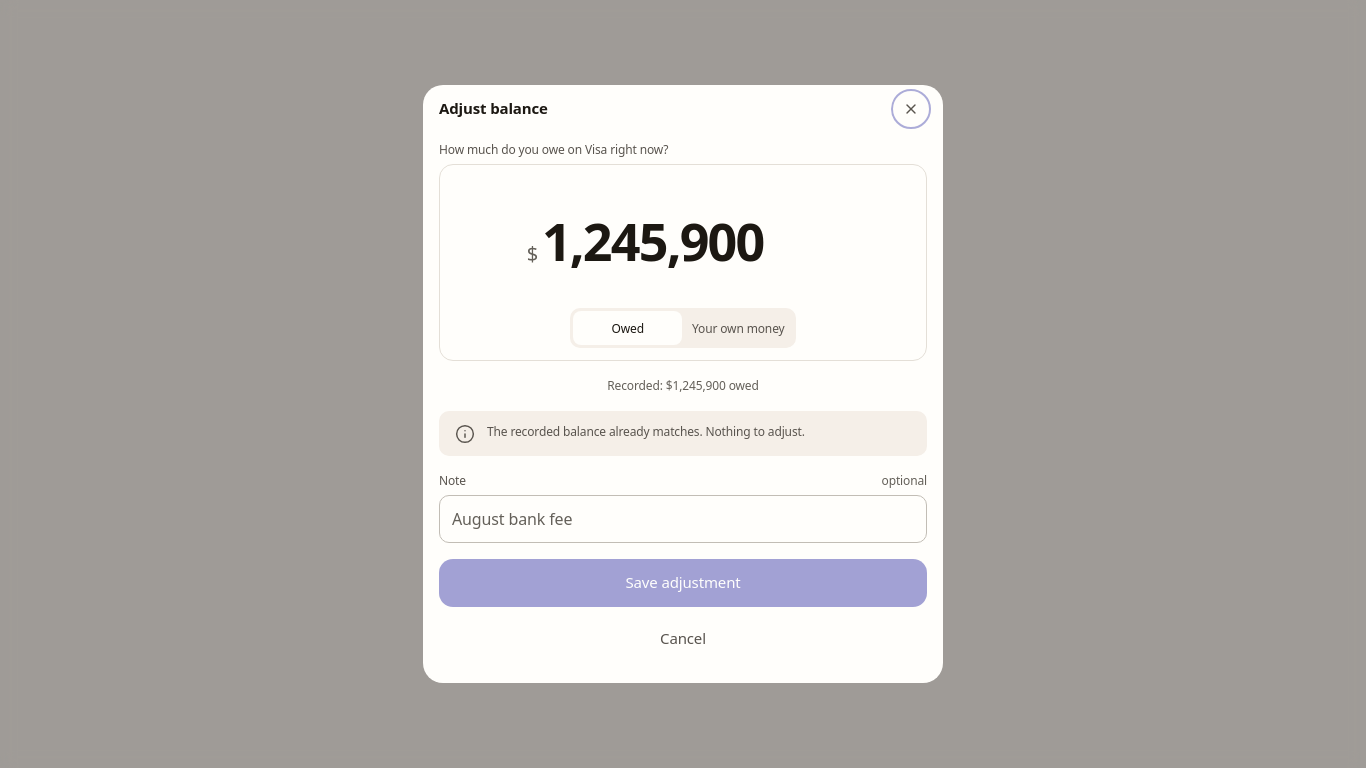
AdjustBalanceSheet › asks a card what it owes, reads the difference as debt, and keeps the form open on a server error
This screenshot has width=1366, height=768.
Expected: the button "Owed" is shown, [574,311,682,345]
Expected: the text "Recorded: $1,245,900 owed" is shown, [607,377,759,394]
Clear the field labelled "How much do you owe on Visa right now?" at [691, 241], box [542,205,839,276]
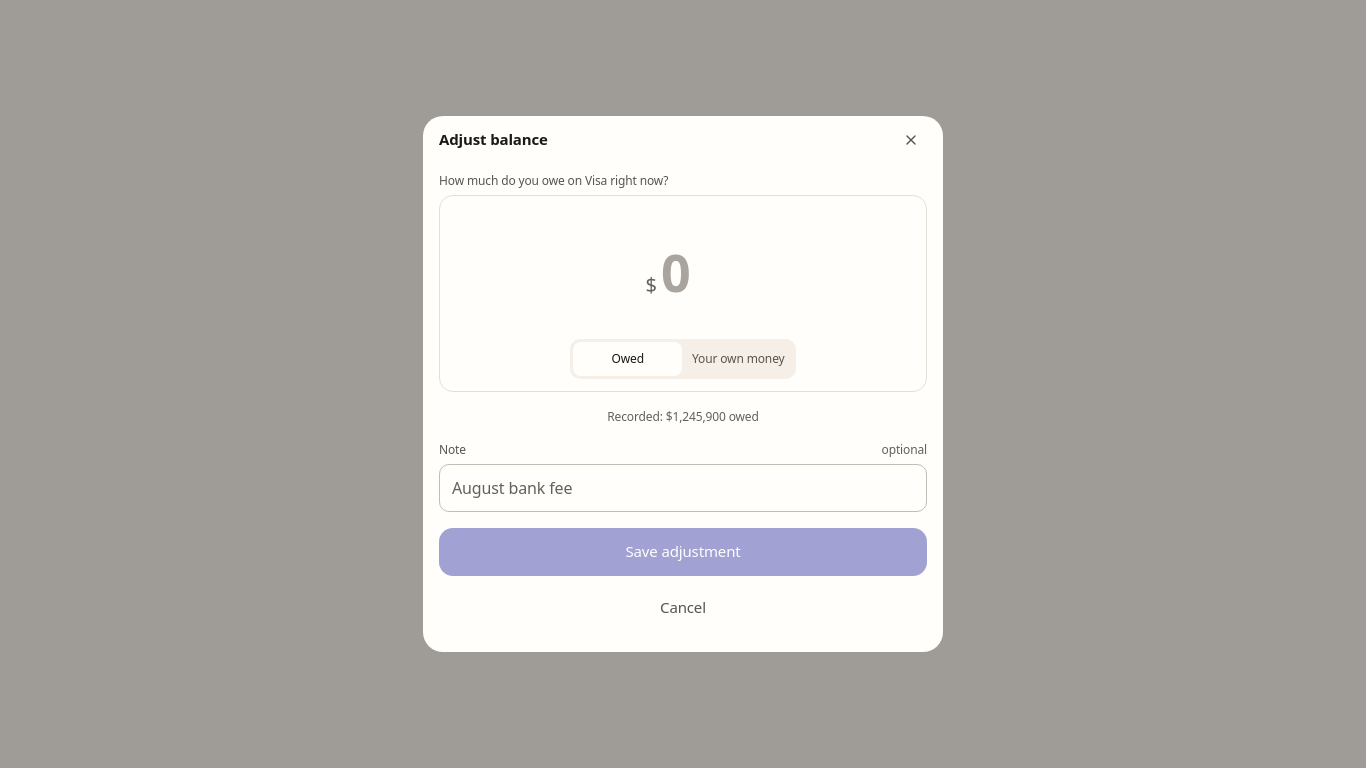
Type "1300000" into the field labelled "How much do you owe on Visa right now?".
click(691, 271); type("1300000")  # box [661,236,720,307]
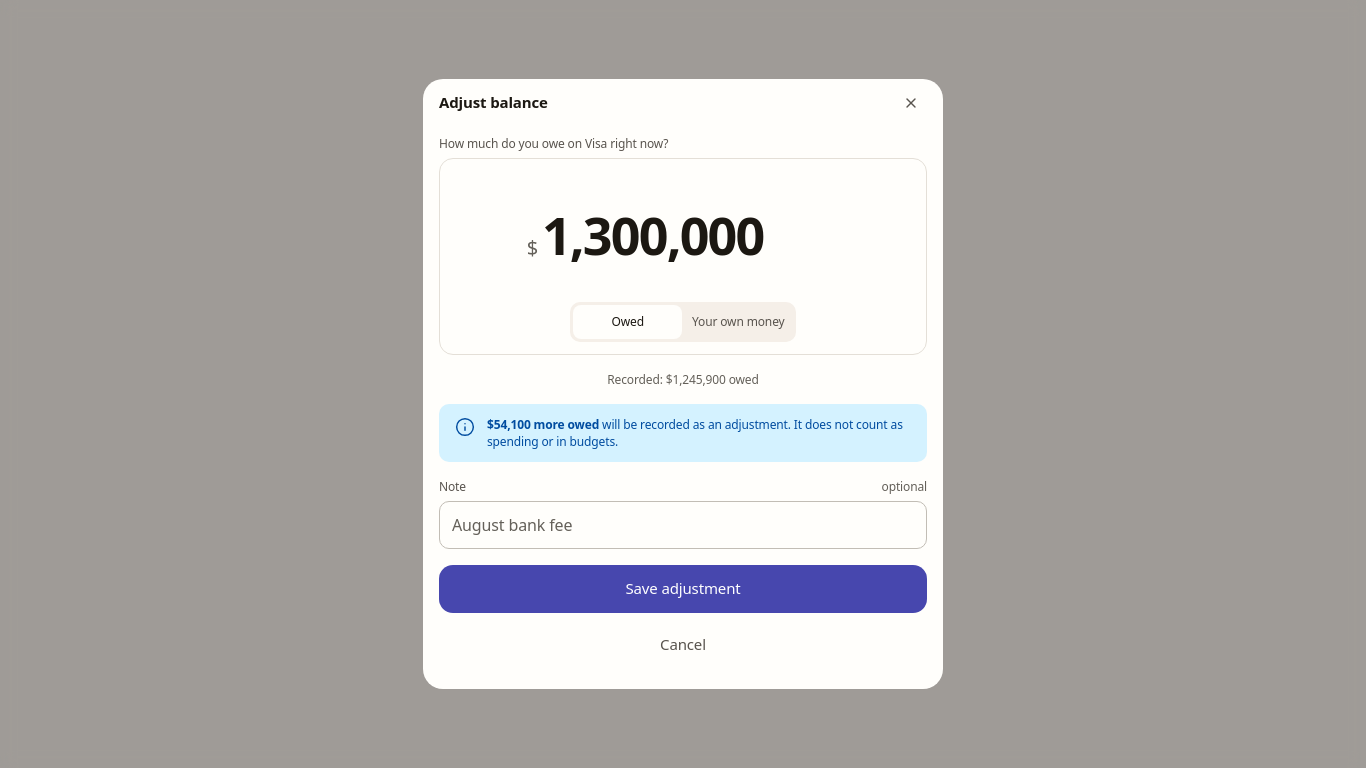
Expected: the text "$54,100 more owed" is shown, [487,416,599,433]
Click the 1st button named "Save adjustment".
click(683, 589)  # box [439,565,927,613]
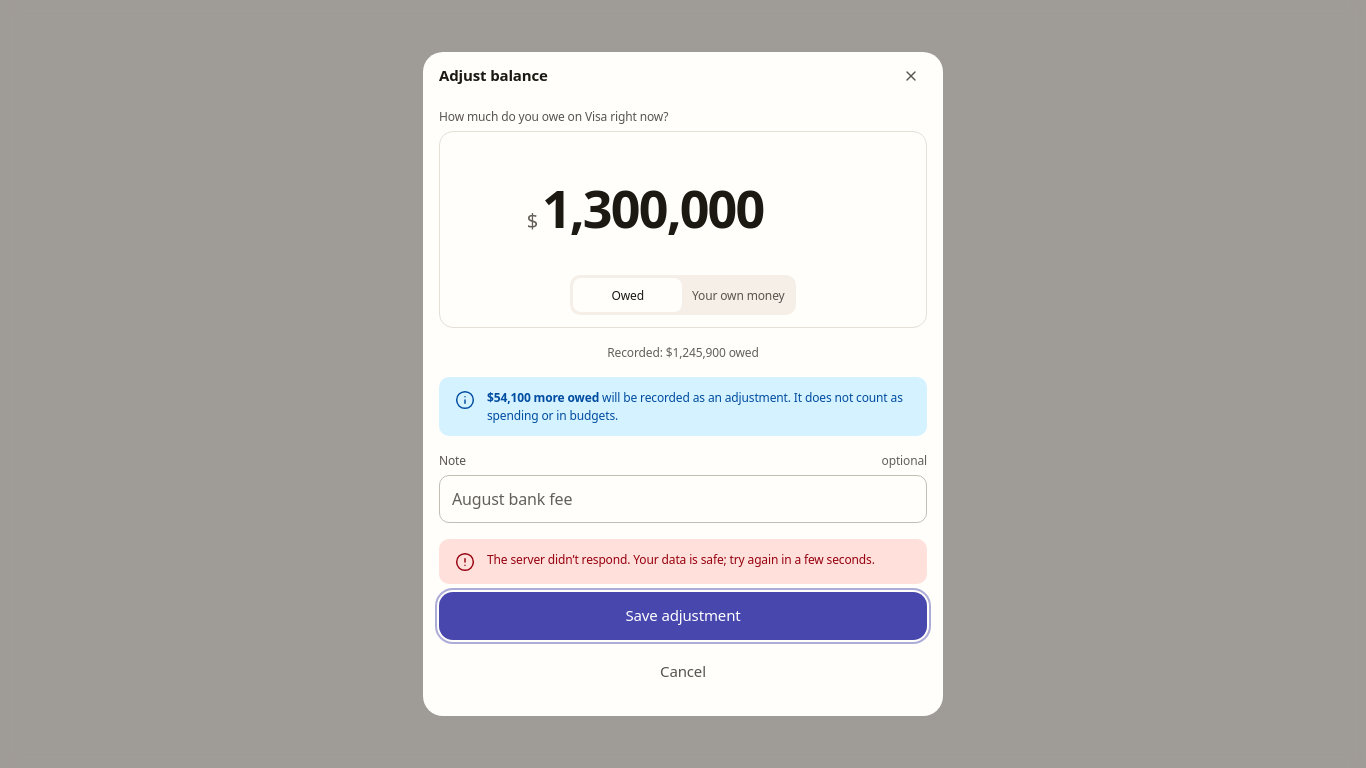
Expected: the field labelled "How much do you owe on Visa right now?" holds "1,300,000", [542,172,839,243]
Expected: the message shows "didn’t respond", [487,551,875,568]
